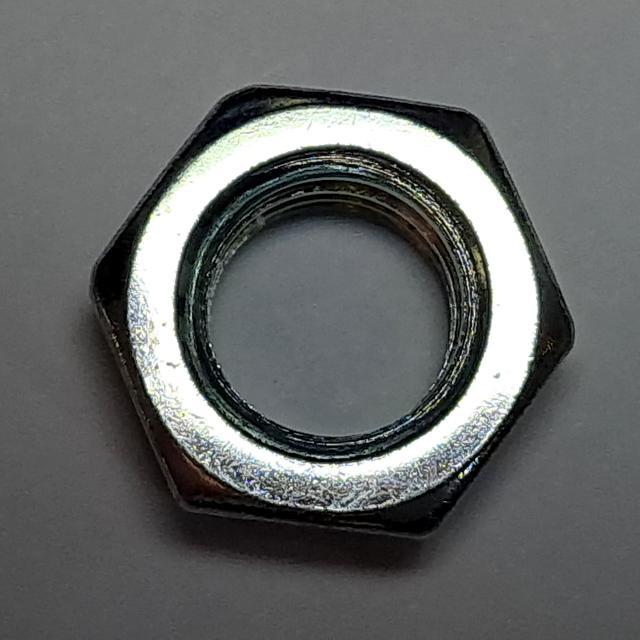Excellent: (70, 66, 586, 553)
